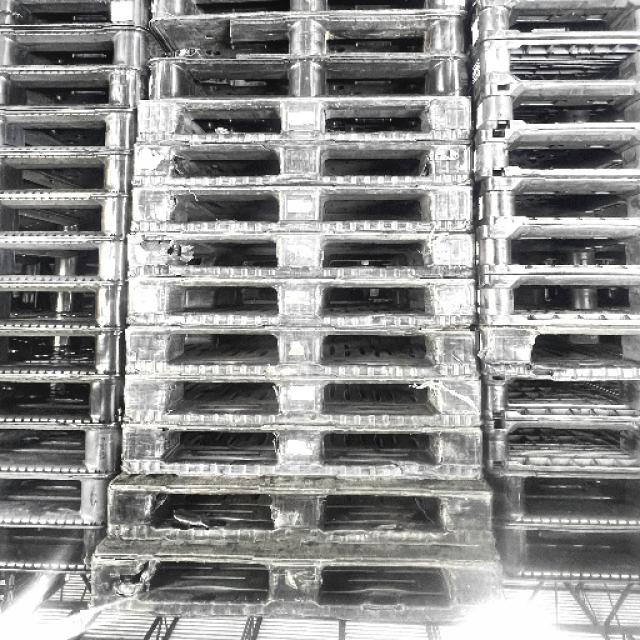igps: (83, 534, 517, 633), (103, 469, 500, 554), (117, 413, 490, 484), (122, 318, 488, 383), (120, 368, 490, 432), (122, 269, 480, 333), (122, 225, 481, 284), (124, 178, 486, 232), (124, 136, 480, 187), (125, 102, 479, 148), (139, 15, 478, 57), (135, 59, 473, 100), (460, 35, 640, 99), (478, 413, 640, 479), (488, 519, 640, 589), (142, 0, 472, 32), (465, 124, 640, 184), (468, 219, 640, 280), (467, 172, 640, 232), (471, 316, 640, 377), (485, 466, 640, 532), (472, 271, 640, 331), (476, 369, 640, 427), (463, 86, 640, 133), (0, 418, 125, 483), (0, 25, 158, 75), (0, 370, 128, 431), (0, 188, 135, 244), (0, 323, 130, 381), (0, 232, 129, 290), (0, 278, 130, 335), (464, 0, 640, 42), (0, 148, 135, 202), (0, 106, 138, 158), (0, 64, 149, 111), (0, 468, 111, 528), (0, 519, 110, 573), (0, 563, 96, 617), (0, 0, 151, 29)
